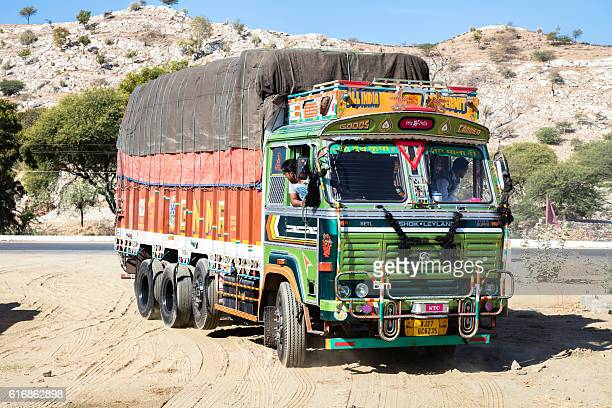truck: (133, 77, 509, 366)
